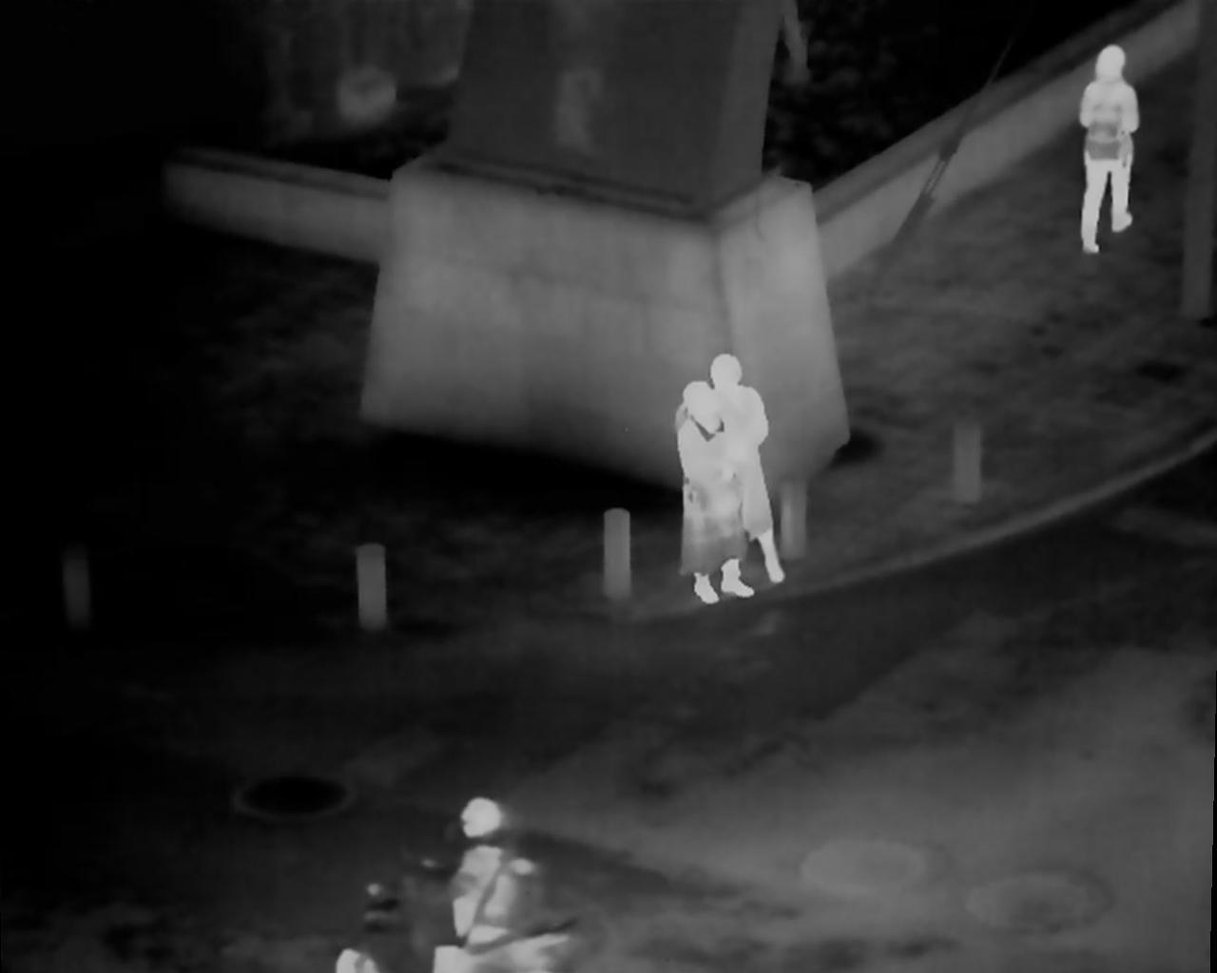person: (435, 795, 548, 971), (709, 356, 782, 589), (679, 380, 752, 603), (1079, 42, 1137, 258)
